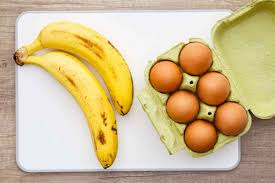banana: (13, 14, 136, 171)
